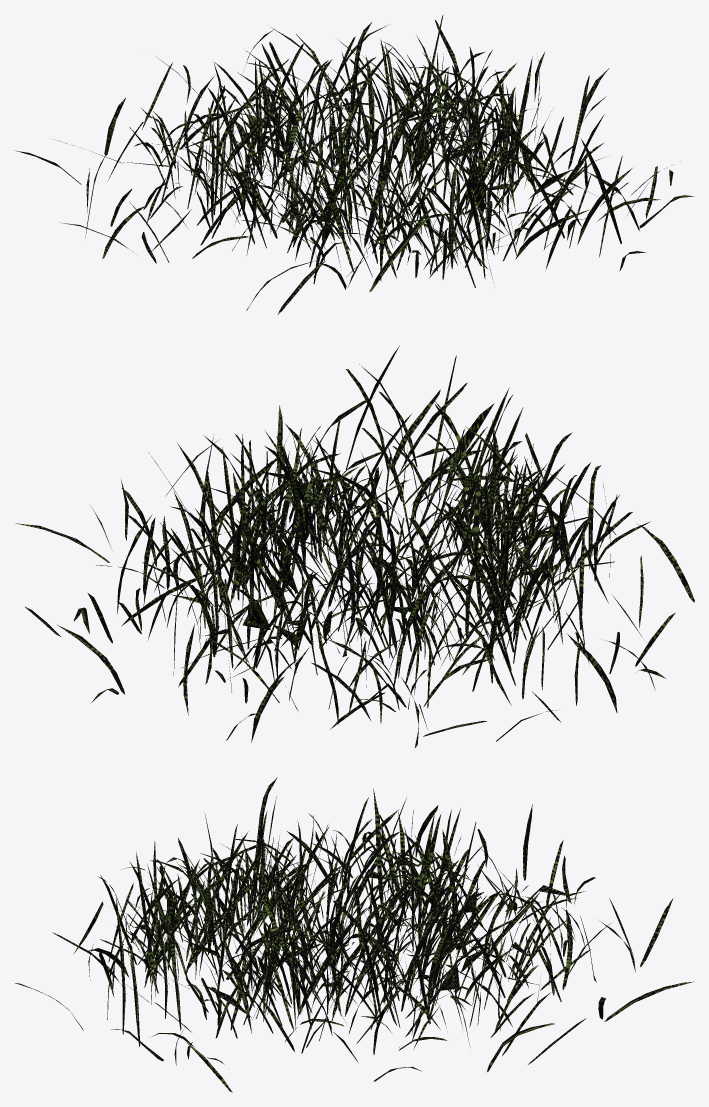
File: Grass_5.glb
3 views of the same model, one above another, from view 1: azimuth 30°, elevation 25°; view 2: azimuth 150°, elevation 25°; view 3: azimuth 270°, elevation 25° (orthographic). The views are drawn at different scales.
Parts seen in each view (by area): view 1: Grass 5; view 2: Grass 5; view 3: Grass 5.
Boxes of the visible parts, <box> form: Grass 5: <box>15,15,694,314</box>; Grass 5: <box>15,345,694,747</box>; Grass 5: <box>15,777,693,1092</box>.
Bounding box in the file's own units: 0.588 × 0.1567 × 0.6228.
Materials: 1 (1 with a texture image).
